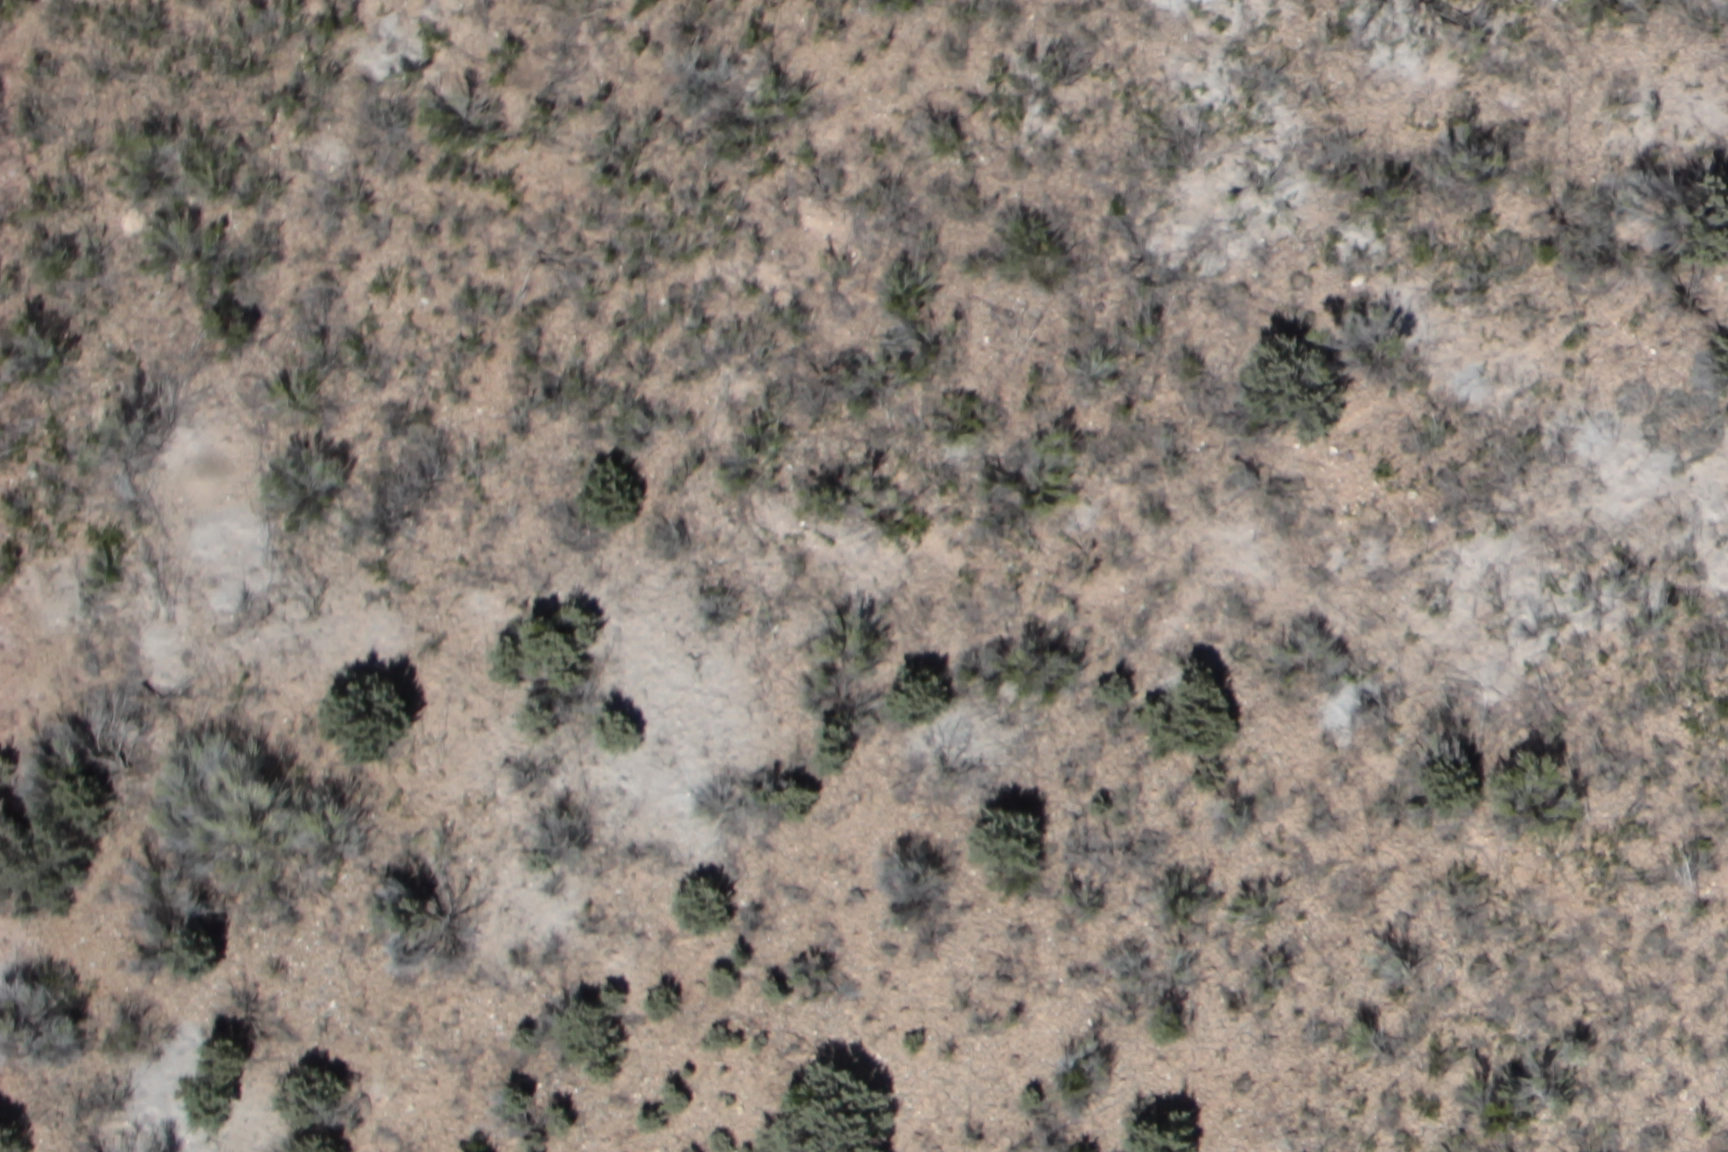burrow: (168, 438, 240, 510)
